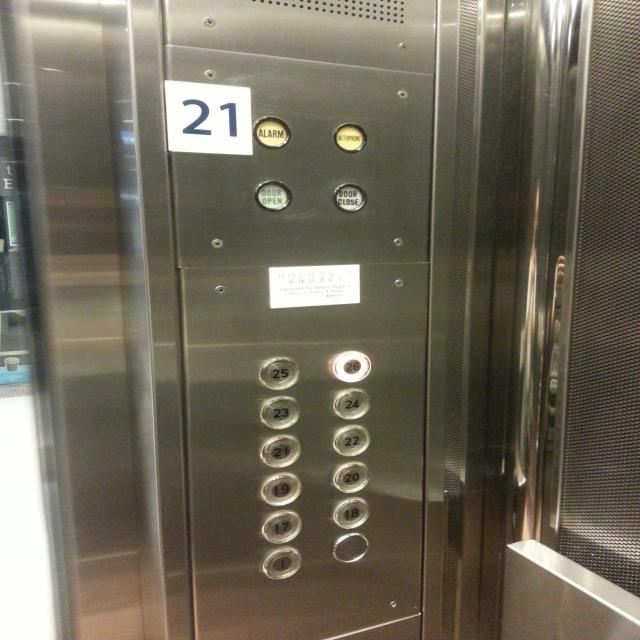1: (261, 546, 302, 580)
17: (262, 510, 302, 544)
18: (332, 496, 370, 530)
19: (261, 472, 302, 506)
20: (331, 461, 370, 493)
21: (258, 434, 302, 467)
22: (330, 423, 370, 457)
23: (258, 394, 302, 430)
24: (332, 388, 372, 420)
25: (258, 355, 298, 391)
26: (331, 350, 371, 382)
empty: (332, 532, 368, 562)
text: (252, 115, 292, 149), (252, 180, 294, 211), (333, 122, 367, 153), (333, 182, 367, 213)
